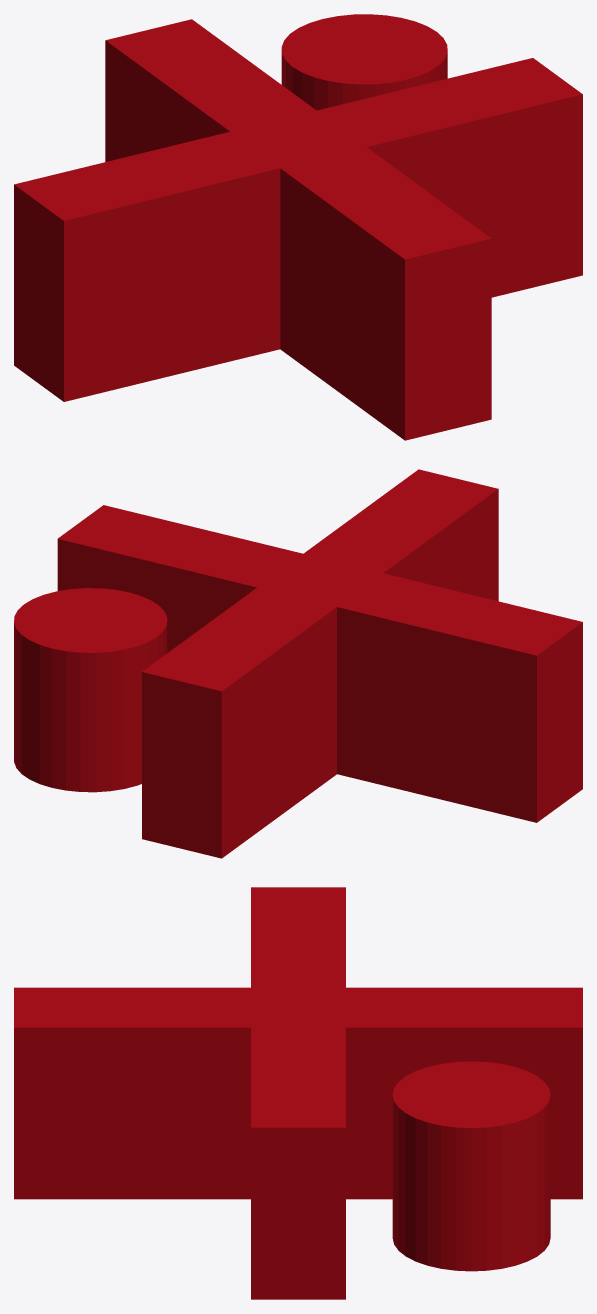
File: herida.gltf
3 renders of one model, top to bottom at view 1: azimuth 30°, elevation 25°; view 2: azimuth 150°, elevation 25°; view 3: azimuth 270°, elevation 25°, orthographic. The views are drawn at different scales.
Parts seen in each view (by area): view 1: Cube.001, Cube, Cilindro.001; view 2: Cube.001, Cube, Cilindro.001; view 3: Cube, Cube.001, Cilindro.001.
Boxes of the visible parts, x1,y1,x2,y2 form: Cube.001: [14, 58, 582, 401]; Cube: [105, 19, 491, 440]; Cilindro.001: [281, 14, 447, 110]; Cube.001: [57, 505, 582, 822]; Cube: [142, 469, 498, 858]; Cilindro.001: [14, 588, 167, 792]; Cube: [14, 987, 582, 1199]; Cube.001: [251, 887, 345, 1299]; Cilindro.001: [392, 1061, 550, 1271].
Size of the model in its own units: 1.8 by 0.6 by 1.8.
